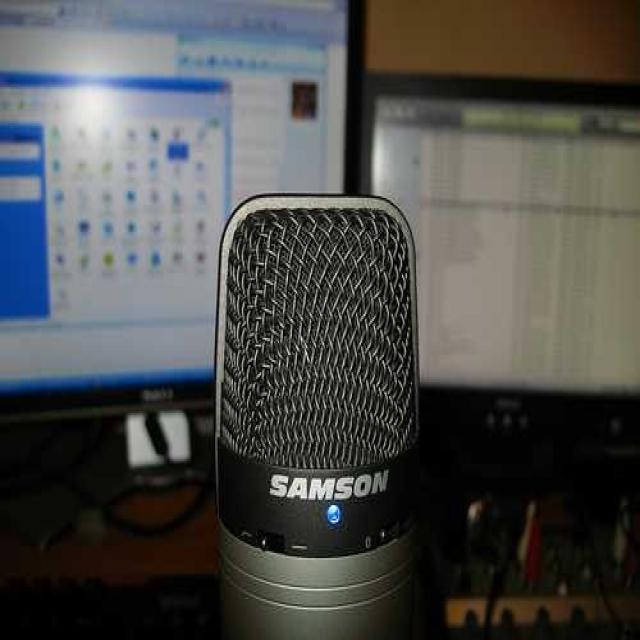microphone: (208, 173, 457, 640)
